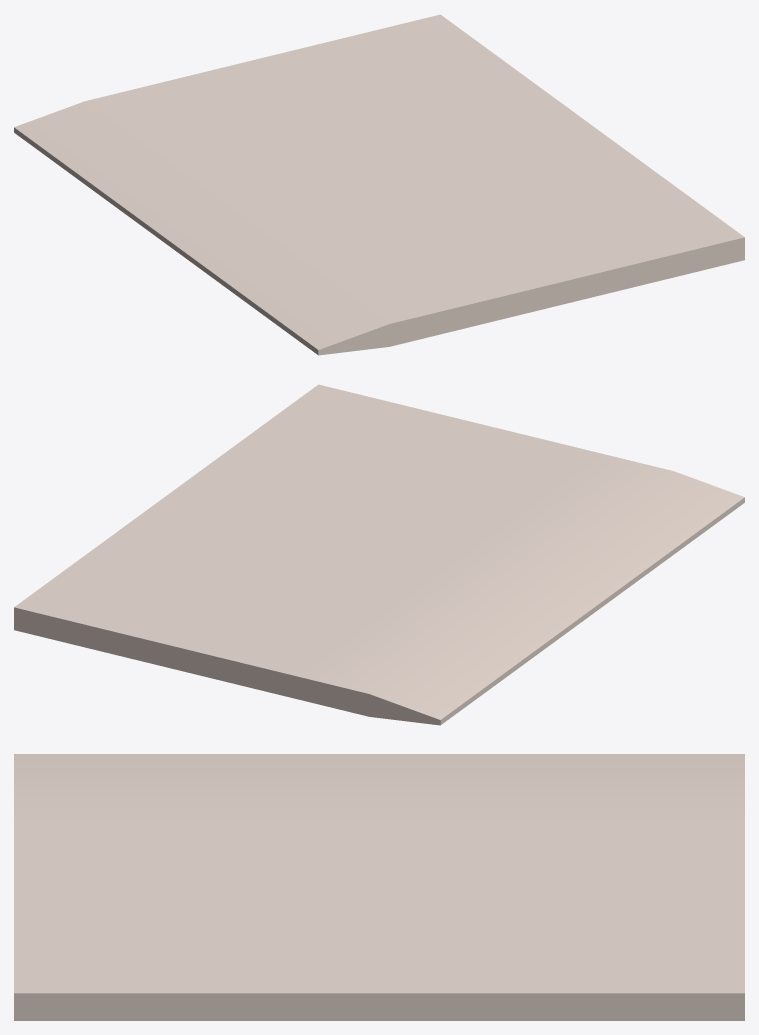
File: BookMiddle.gltf
The picture shows the model from 3 angles, top to bottom: view 1: azimuth 30°, elevation 25°; view 2: azimuth 150°, elevation 25°; view 3: azimuth 270°, elevation 25°; orthographic projection. The views are drawn at different scales.
Parts seen in each view (by area): view 1: BookMiddle; view 2: BookMiddle; view 3: BookMiddle.
Boxes of the visible parts, <box> form: BookMiddle: <box>14,14,744,355</box>; BookMiddle: <box>14,384,744,725</box>; BookMiddle: <box>14,754,744,1020</box>.
Size of the model in its own units: 4.42 by 0.2261 by 5.47.
Materials: 1 (1 with a texture image).
